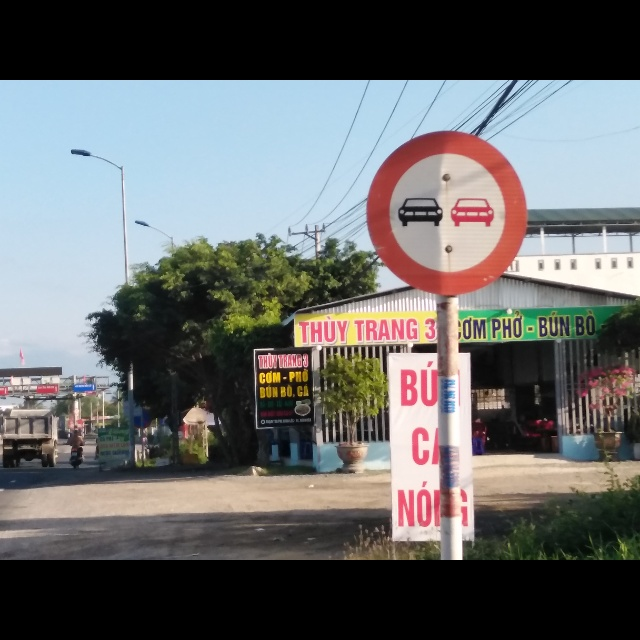Cấm vượt: (364, 132, 529, 295)
